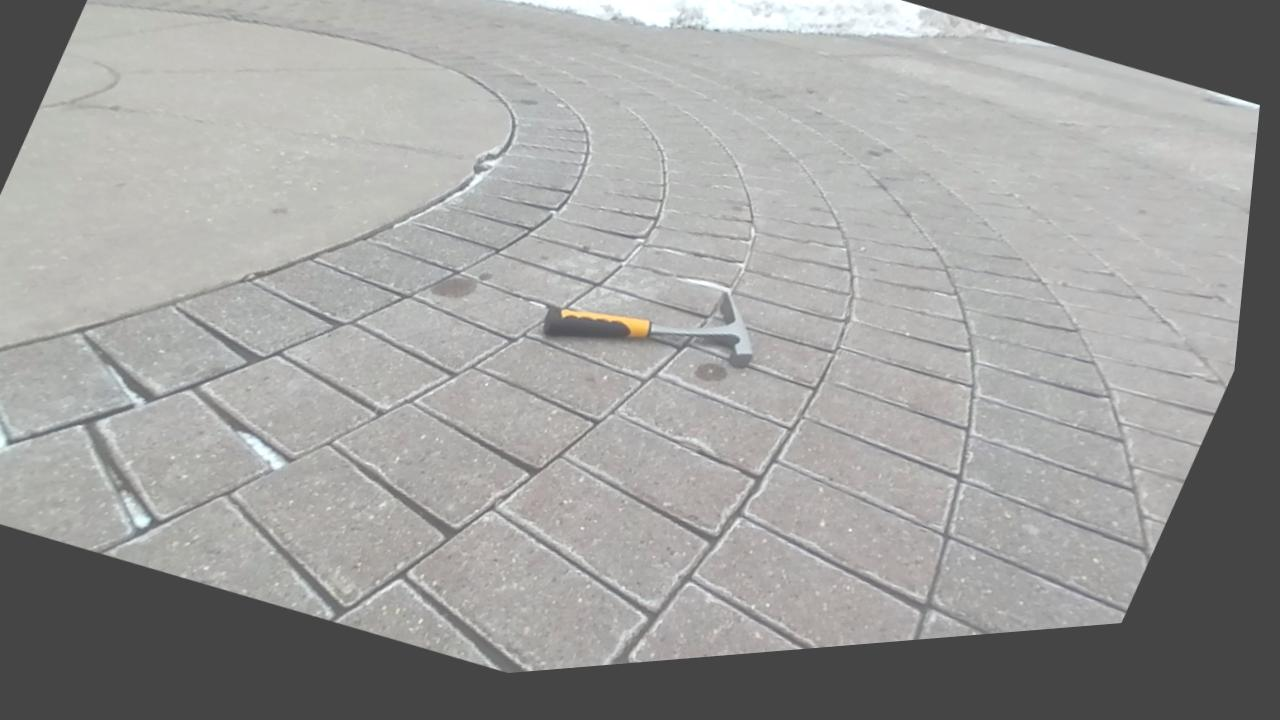pick: (543, 291, 752, 367)
